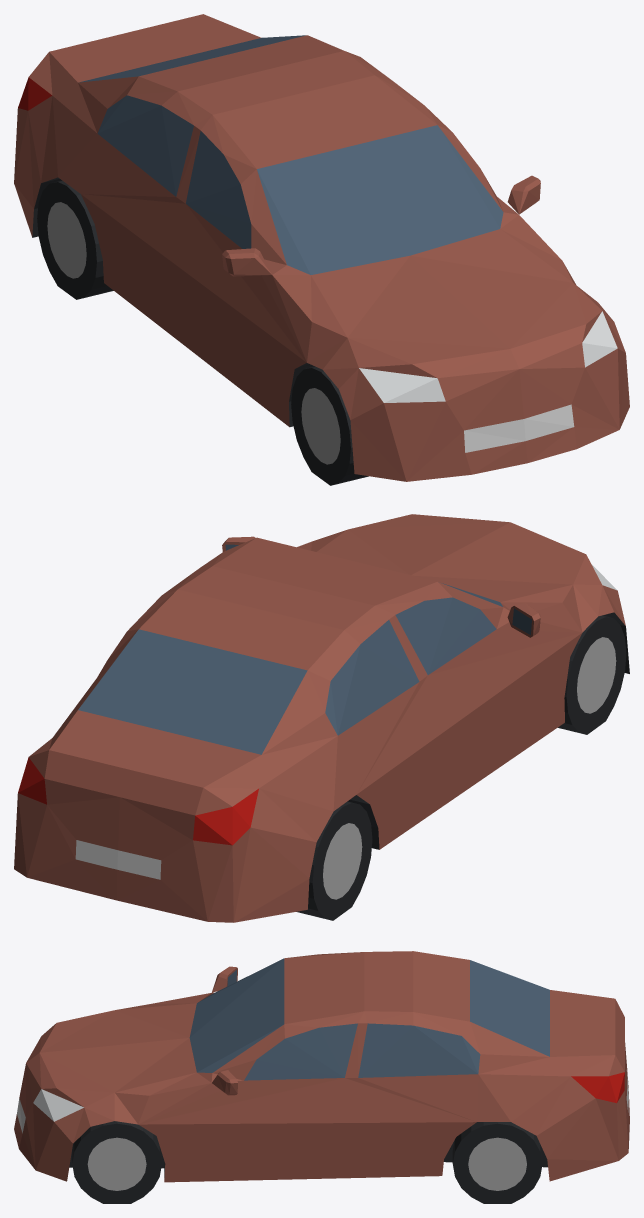
File: car-sedan-1.glb
The picture shows the model from 3 angles, top to bottom: view 1: azimuth 30°, elevation 25°; view 2: azimuth 150°, elevation 25°; view 3: azimuth 270°, elevation 25°; orthographic projection. The views are drawn at different scales.
Visible parts, largest first — view 1: car/sedan@1; view 2: car/sedan@1; view 3: car/sedan@1.
Part boxes in pixels (x1,y1,x2,y2): car/sedan@1: (14, 14, 629, 485); car/sedan@1: (14, 514, 629, 922); car/sedan@1: (14, 951, 629, 1203).
Size of the model in its own units: 2128 by 1480 by 4808.
